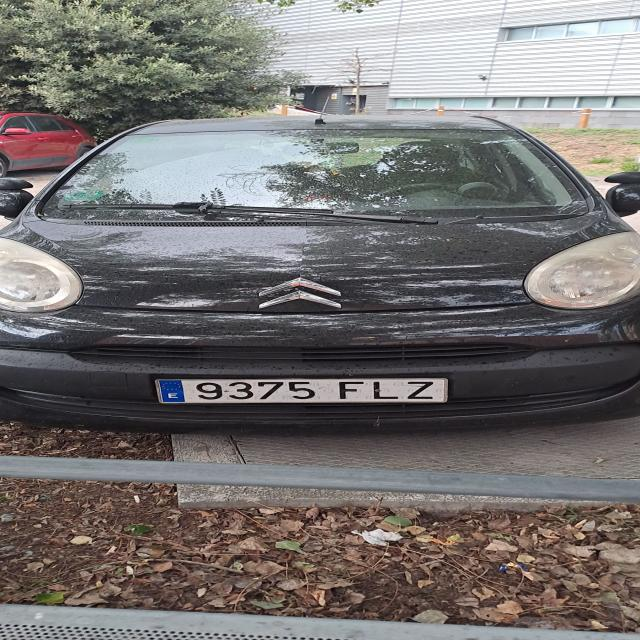license_plate-34Td: (155, 378, 448, 404)
